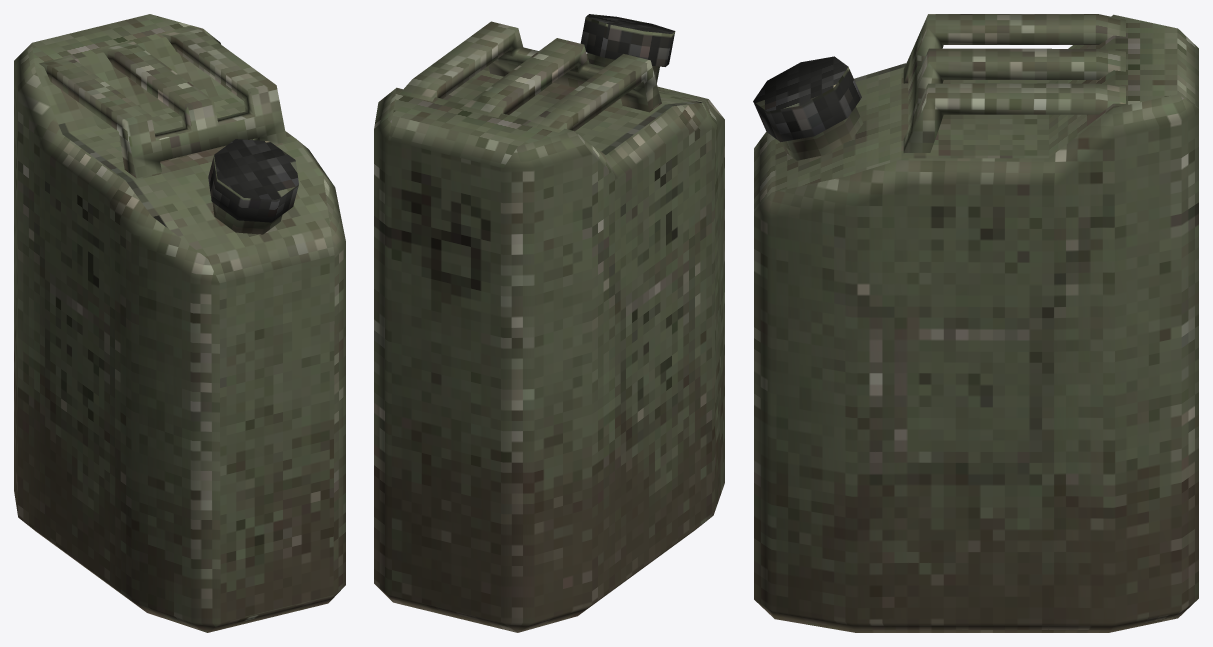
Rendered from jerrycan.fbx.
3 renders of one model, left to right at view 1: azimuth 30°, elevation 25°; view 2: azimuth 150°, elevation 25°; view 3: azimuth 270°, elevation 25°, orthographic. The views are drawn at different scales.
Visible parts, largest first — view 1: jerrycan; view 2: jerrycan; view 3: jerrycan.
Boxes of the visible parts, x1,y1,x2,y2 form: jerrycan: (14, 14, 345, 632); jerrycan: (374, 14, 724, 632); jerrycan: (753, 14, 1198, 632).
Bounding box in the file's own units: 21.67 × 47.62 × 36.32.
1 material, 1 textured.
